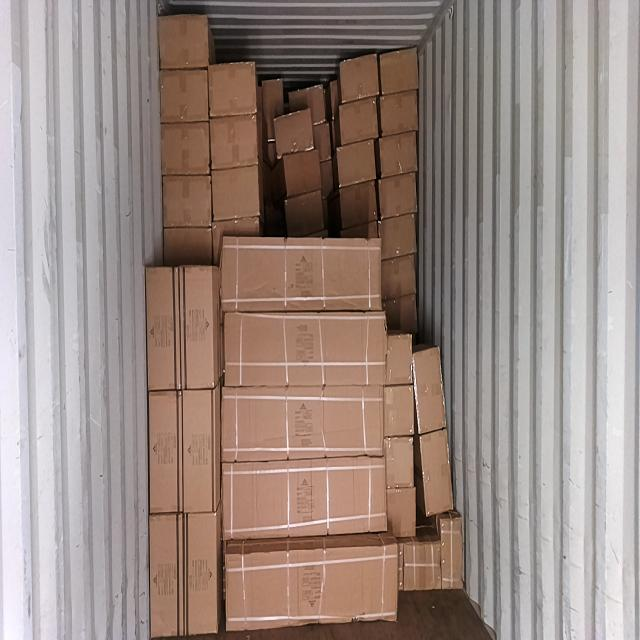carton: (227, 541, 397, 632), (220, 457, 387, 541), (223, 309, 386, 392), (221, 387, 385, 464), (221, 235, 384, 312), (149, 511, 184, 640), (145, 266, 180, 392), (184, 510, 217, 636), (149, 389, 182, 513), (182, 389, 214, 508), (183, 266, 213, 390), (417, 432, 452, 516), (160, 66, 208, 125), (161, 121, 210, 177), (158, 14, 207, 70), (214, 166, 262, 221), (211, 112, 257, 168), (209, 62, 255, 118), (416, 349, 444, 434), (162, 178, 212, 224), (402, 539, 440, 590), (341, 53, 380, 101), (440, 513, 464, 589), (338, 137, 376, 184), (379, 47, 419, 91), (380, 93, 420, 134), (277, 109, 314, 153), (339, 100, 379, 140), (379, 135, 418, 176), (385, 385, 415, 438), (381, 174, 417, 217), (386, 436, 414, 490), (388, 489, 416, 542), (379, 215, 416, 254), (284, 152, 319, 192), (383, 254, 416, 296), (387, 334, 414, 385)
